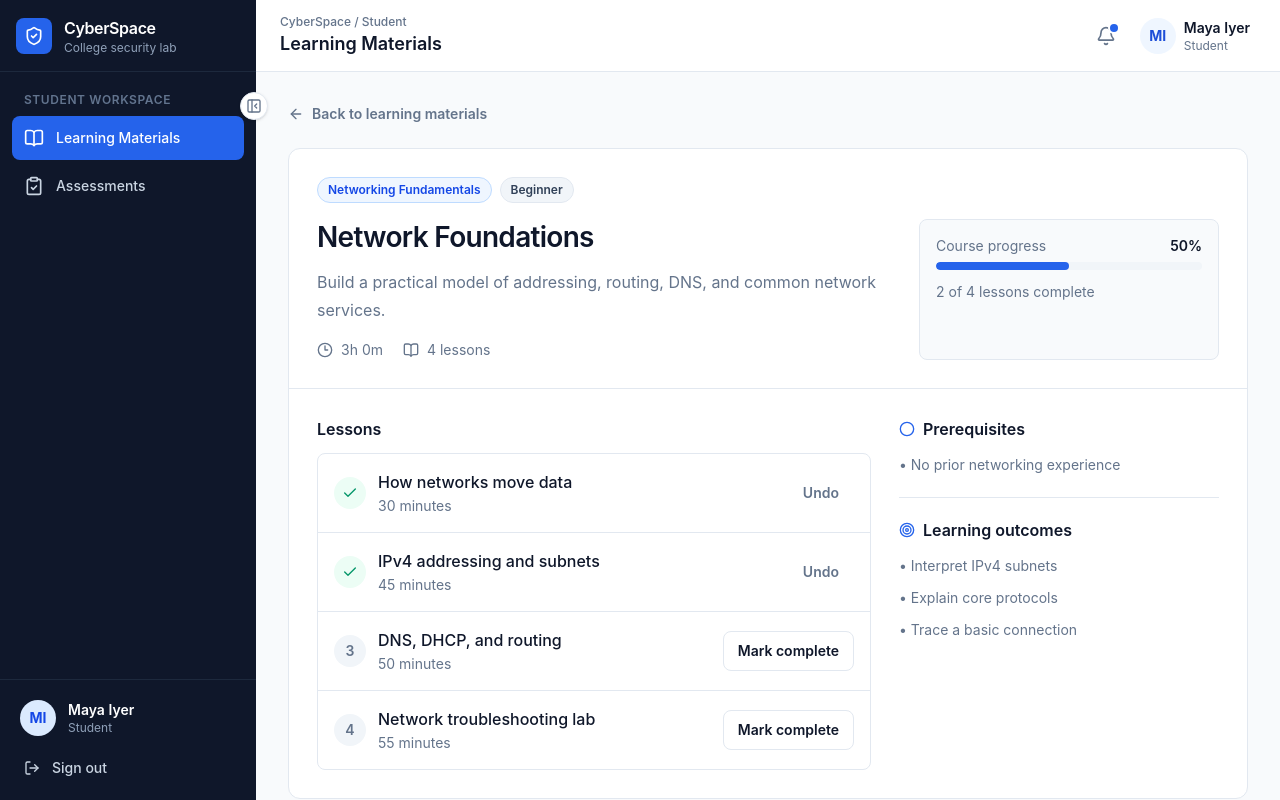
learning progress › marks a lesson complete through the repository
The image size is (1280, 800).
Step 1. Click the button "Mark complete" in the row of "DNS, DHCP, and routing" → (788, 651), box x1=723 y1=631 x2=854 y2=671
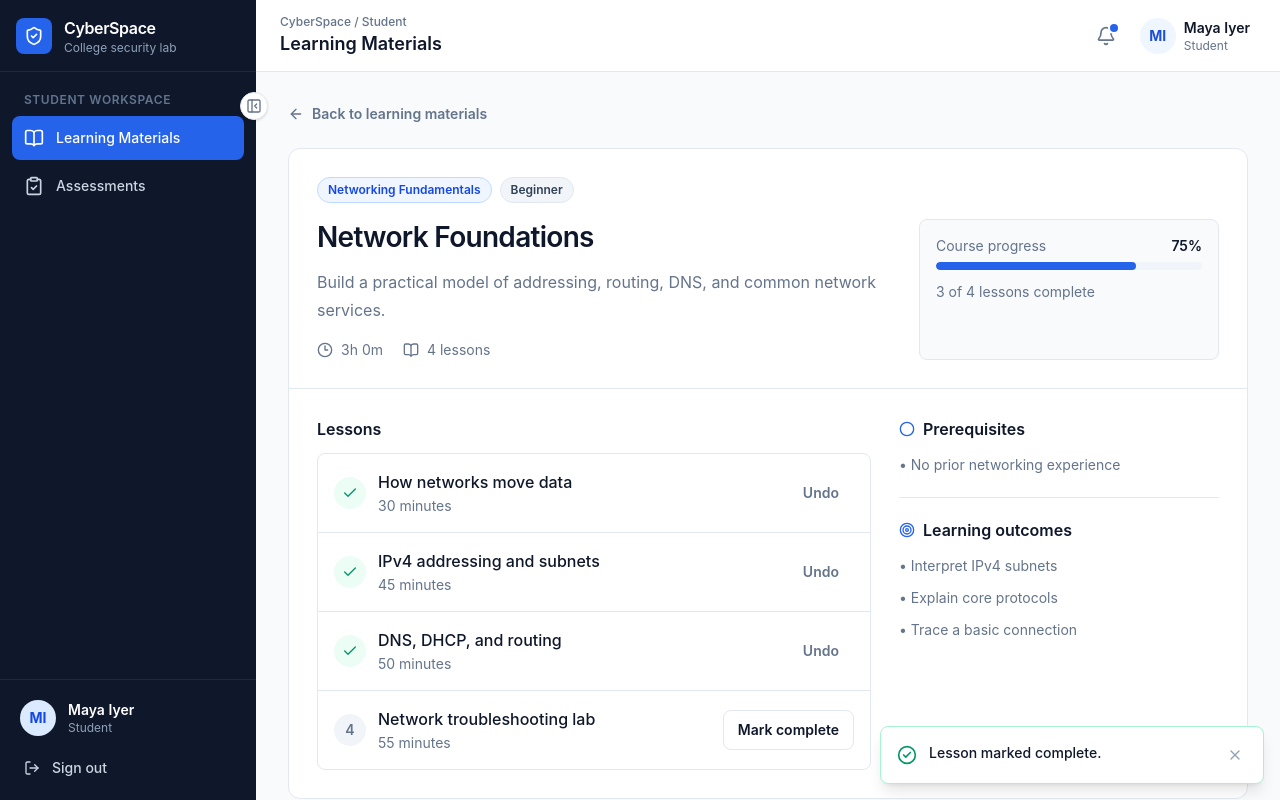
Check: the text "Lesson marked complete." is shown, box x1=929 y1=744 x2=1102 y2=761
